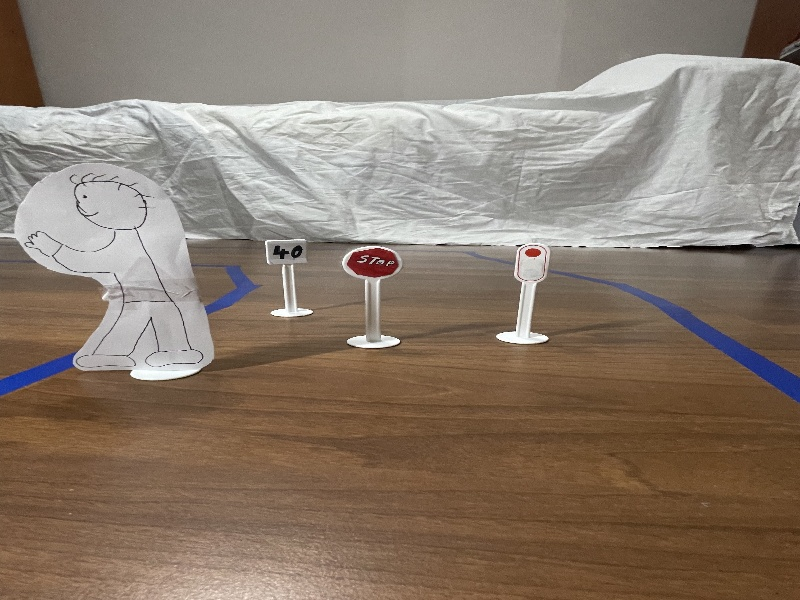persoana: (6, 154, 232, 390)
semafor_rosu: (510, 243, 553, 294)
stop: (340, 240, 414, 287)
viteza_limita_40: (260, 228, 315, 270)
